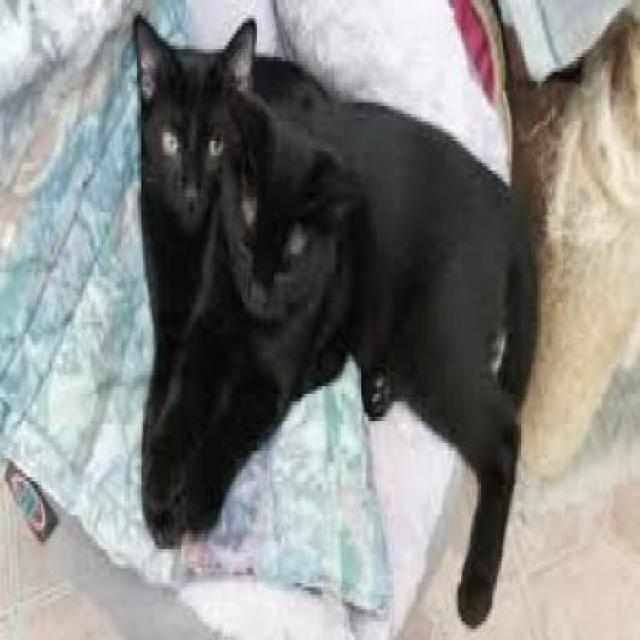animals: (126, 34, 563, 557)
